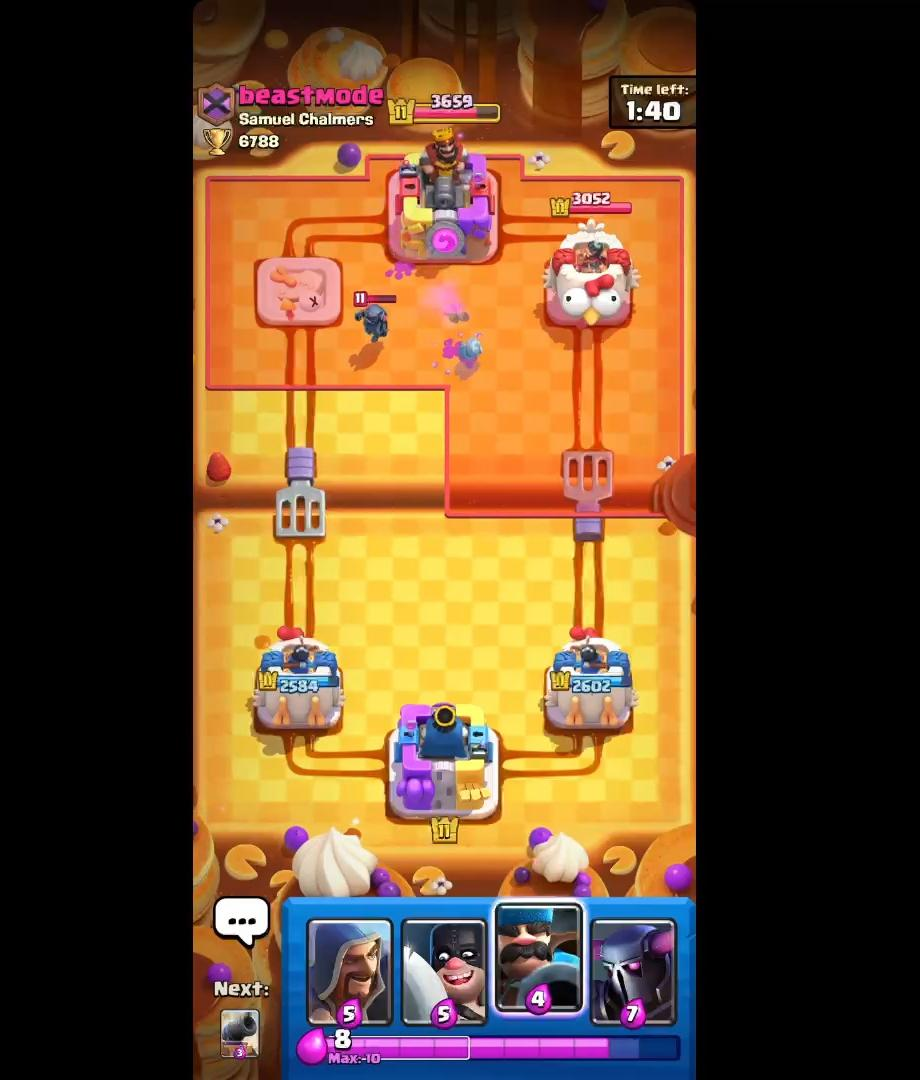Mini Pekka: (348, 285, 398, 350)
